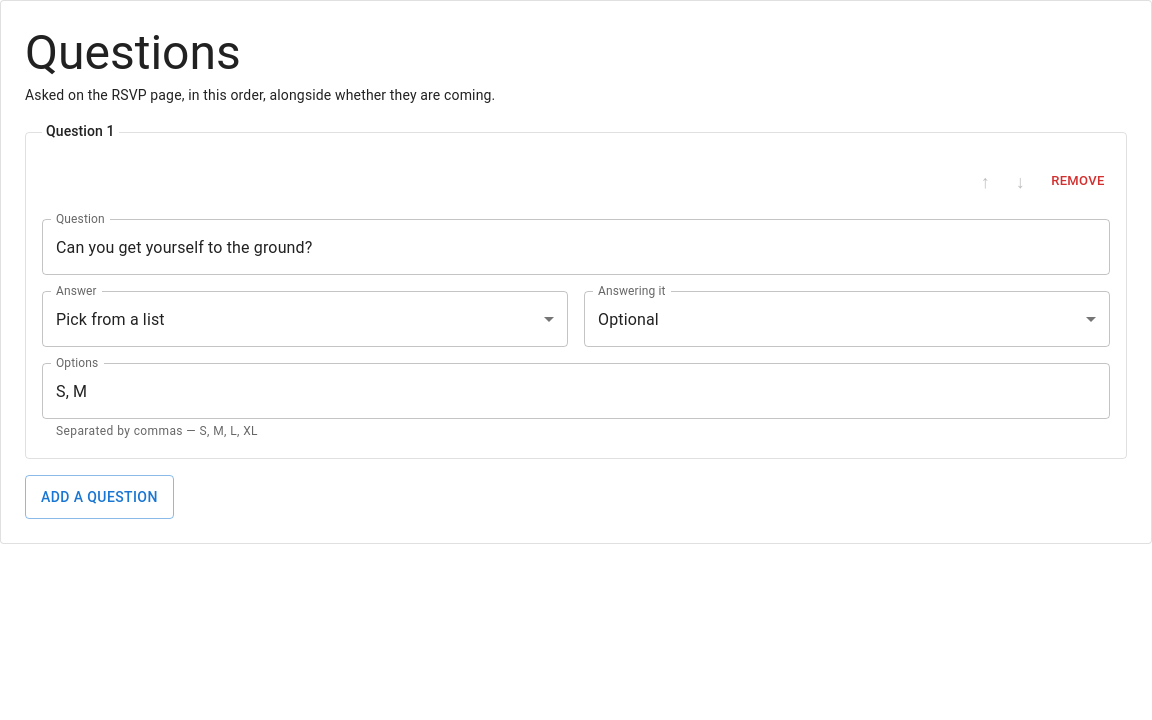
Test: the three answer types (D66) › stops asking for options when the type stops being a list
Press the mouse on the dropdown named "Answer" at (110, 319), box [56,310,165,328]
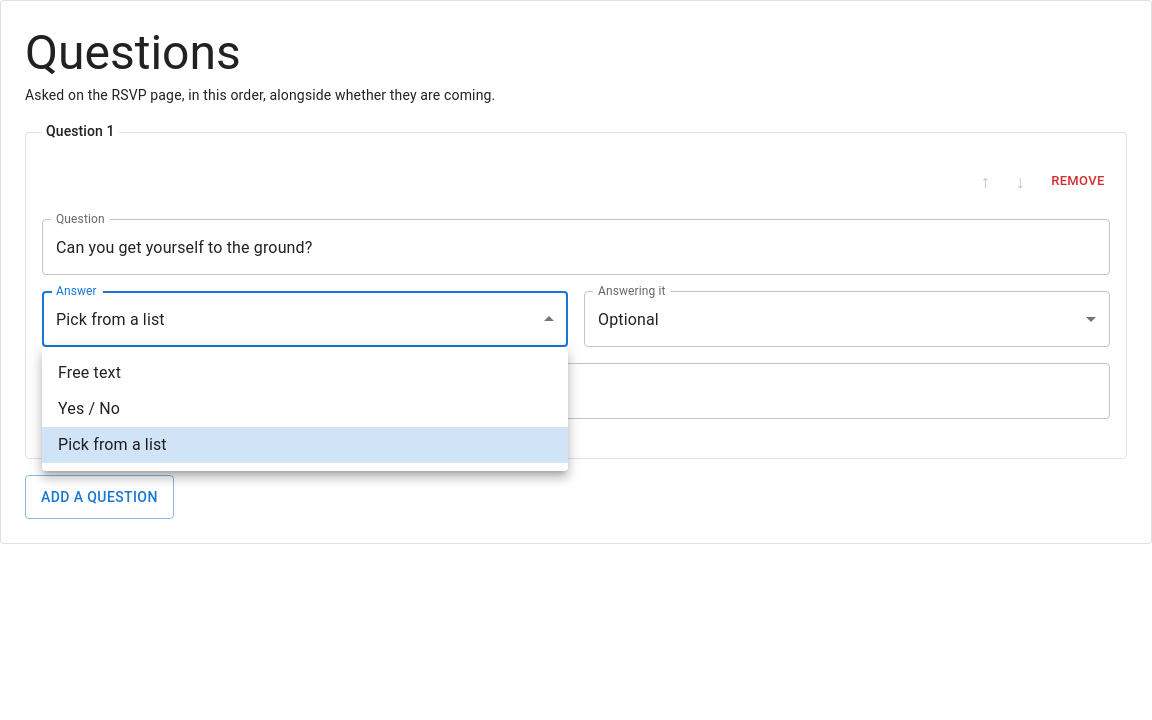
Click the option "Yes / No". click: (89, 408)
box: [58,399,120,418]
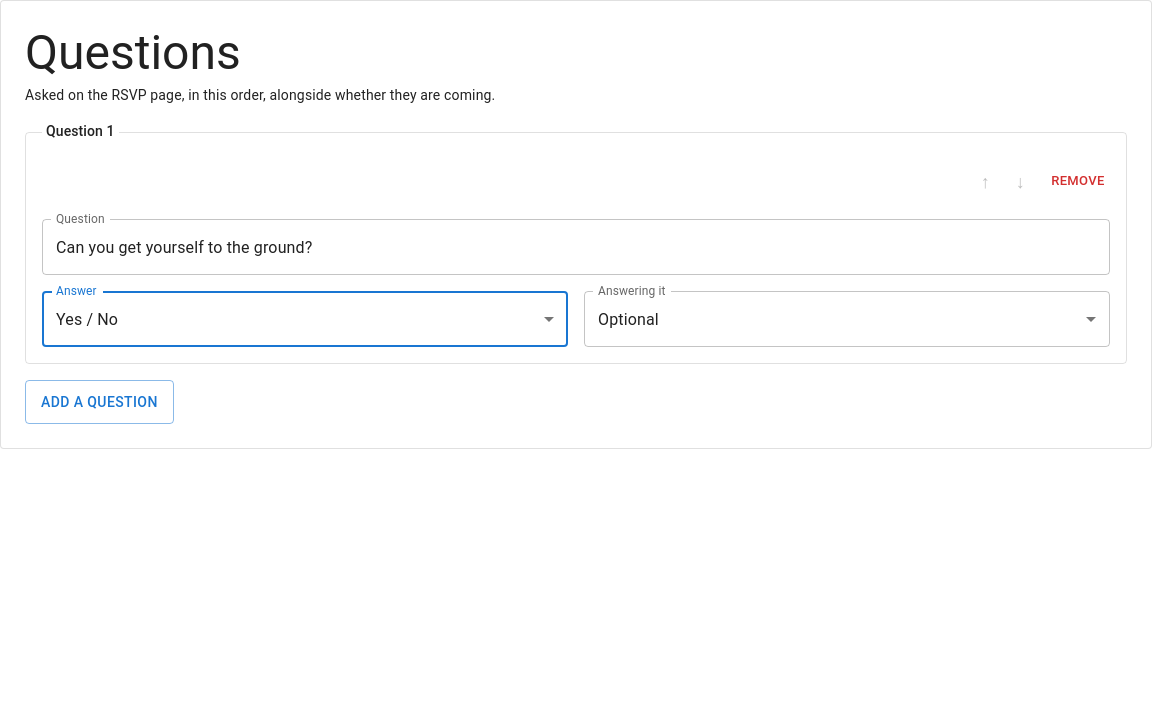
expect the label "Options" is gone: met
